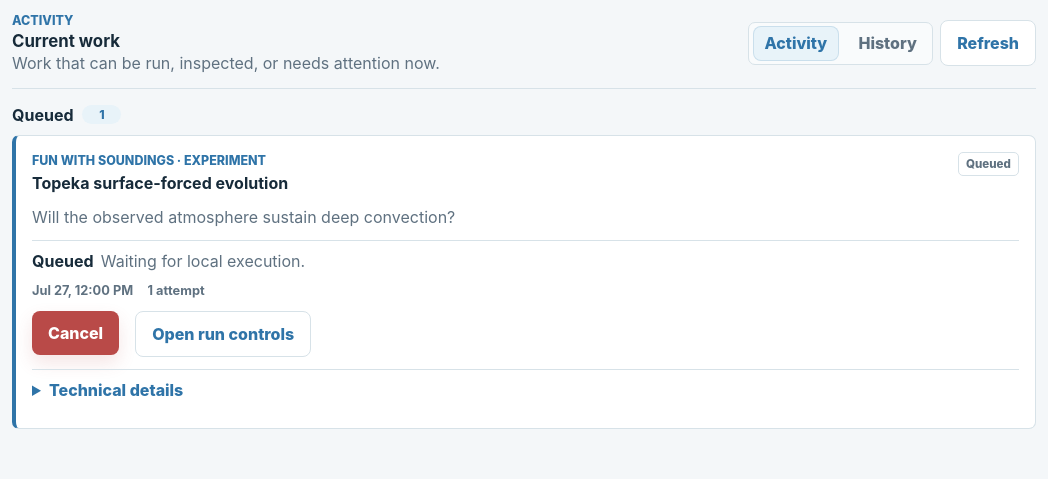
Test: LifecycleWorkspace › executes a direct lifecycle action and refreshes from backend state
The image size is (1048, 479).
Click the button "Cancel".
click(76, 333)  # box [32, 311, 119, 355]
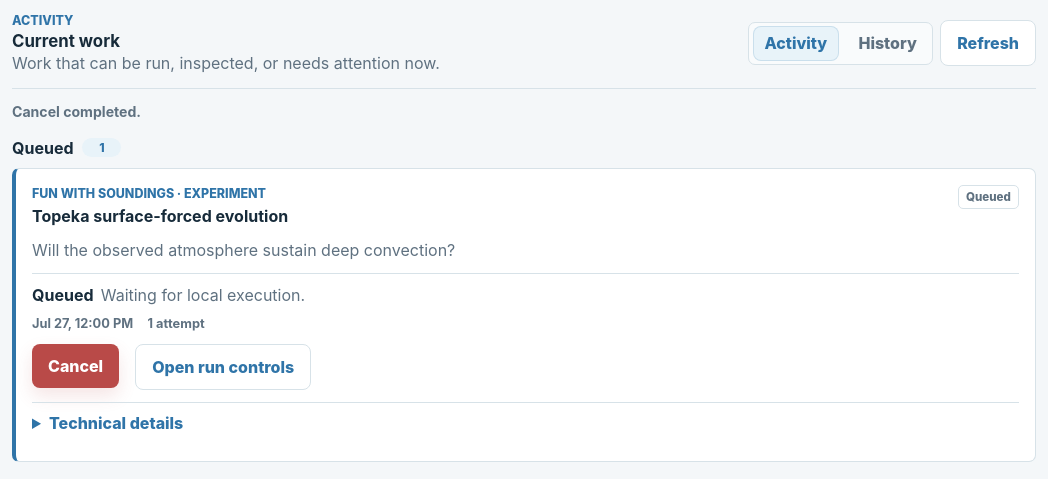
Result: the text "Cancel completed." is shown at [12, 100, 141, 122]
